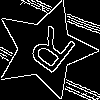R: (20, 25, 79, 83)
